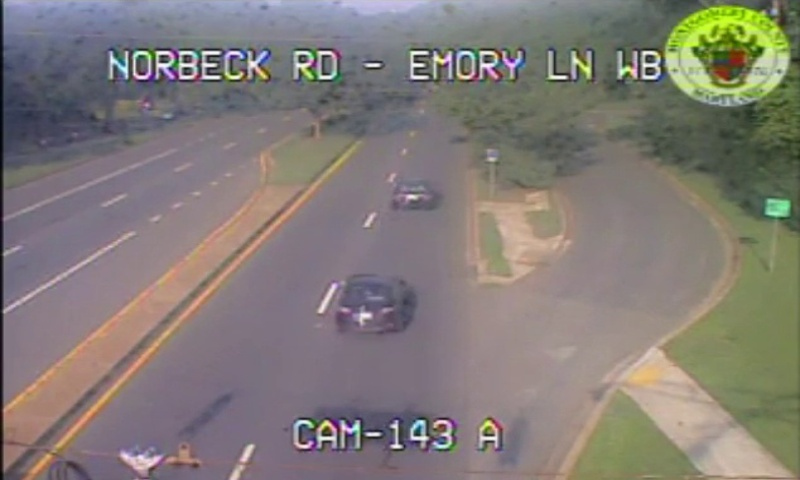car: (335, 274, 403, 332), (391, 182, 434, 207)
